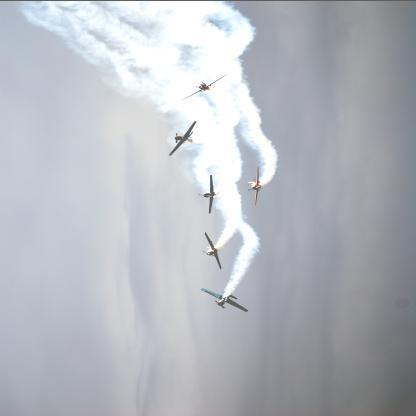aircraft: (199, 288, 248, 313), (182, 75, 228, 101), (168, 120, 199, 157), (204, 231, 223, 271), (248, 166, 262, 207), (204, 174, 217, 214)
